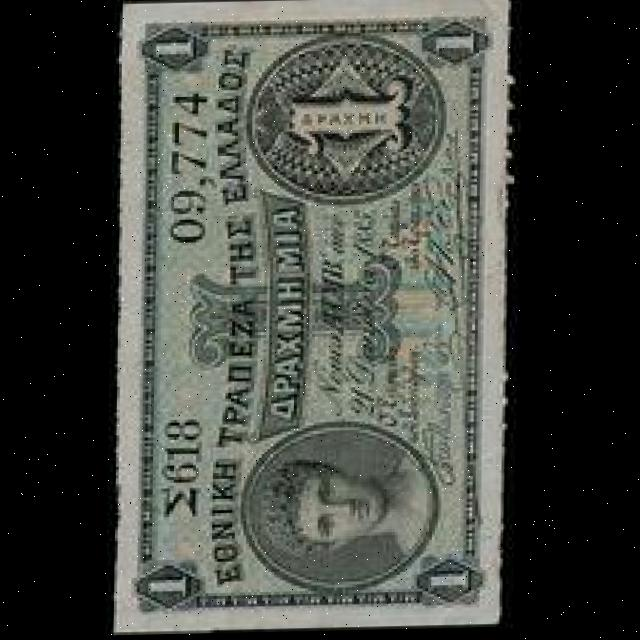banknote: (109, 0, 514, 638), (422, 18, 496, 73), (143, 28, 217, 78), (413, 557, 489, 603), (141, 555, 206, 608)
